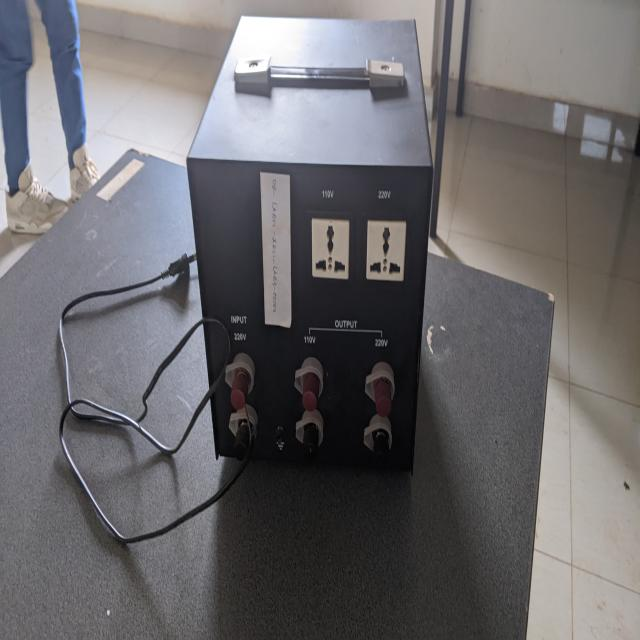AC POWER Stabilizer: (184, 21, 438, 483)
